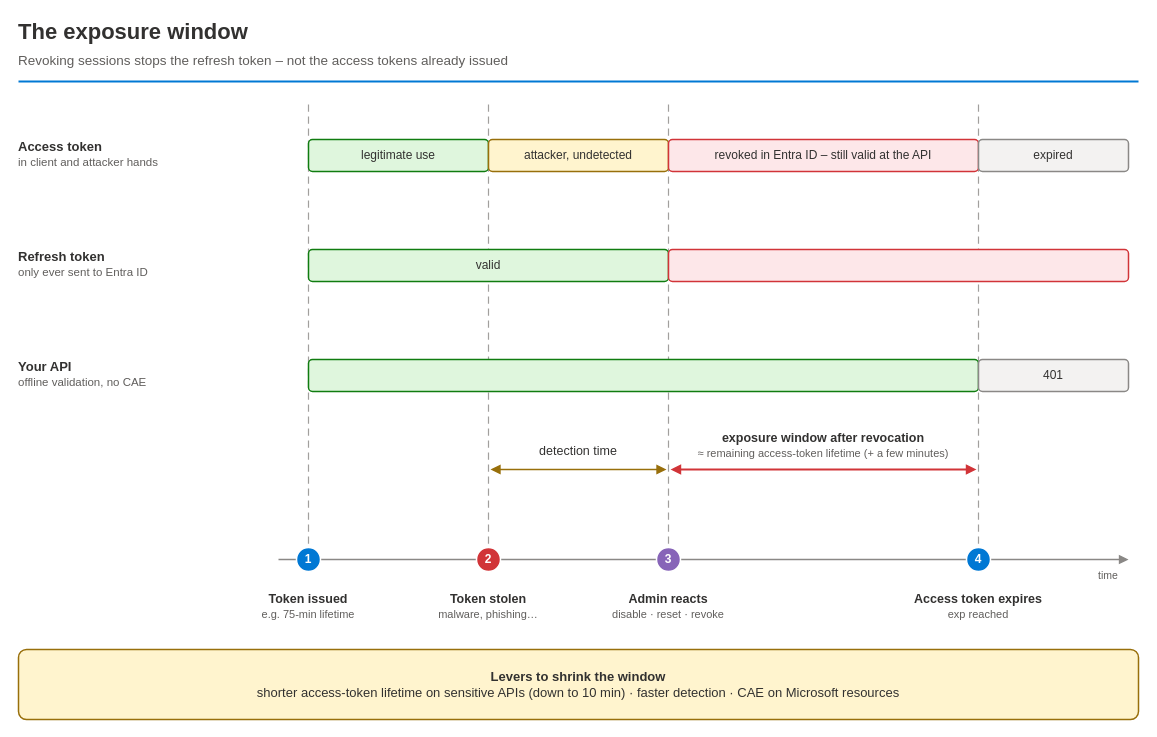
Image size: 1157x737. Some labels were removed from this diagram. Each missing label, with the centre of its shape:
"answers 200 OK to whoever presents the token" belongs at point 643,375.
"invalidated → next refresh fails → sign-in required" belongs at point 898,265.
